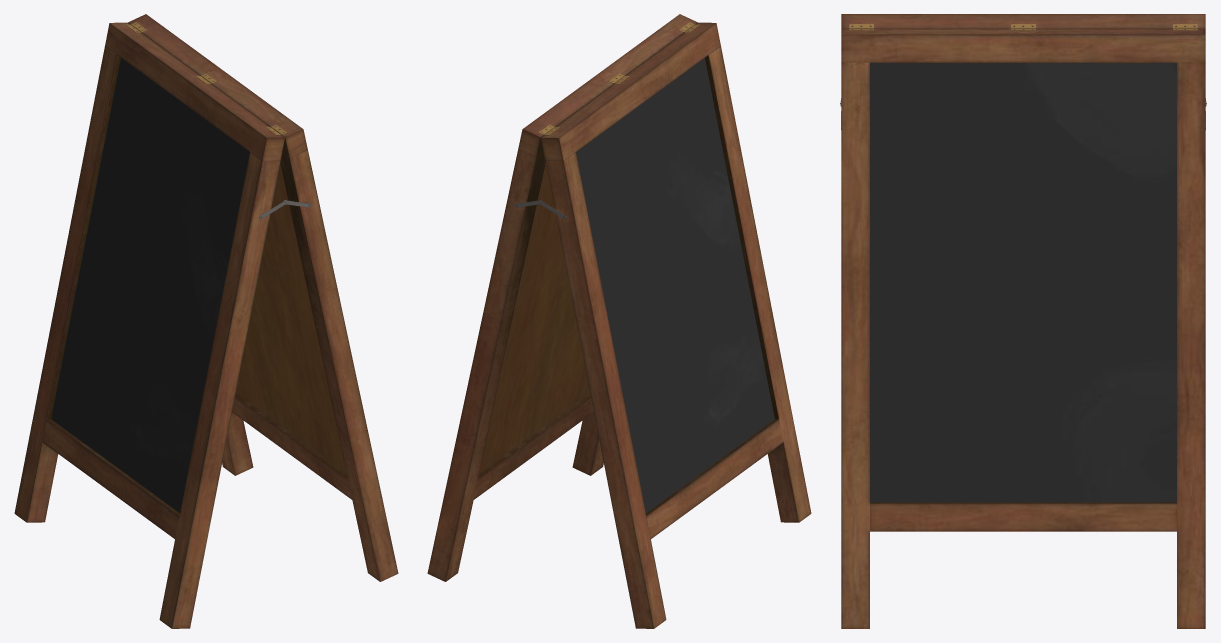
The model's file is sandwichBoard-v1.glb.
3 views of the same model, side by side, from view 1: azimuth 30°, elevation 25°; view 2: azimuth 150°, elevation 25°; view 3: azimuth 270°, elevation 25° (orthographic). The views are drawn at different scales.
Parts seen in each view (by area): view 1: standing_chalkboard_01; view 2: standing_chalkboard_01; view 3: standing_chalkboard_01.
Part boxes in pixels (x1,y1,x2,y2): standing_chalkboard_01: (14,14,398,628); standing_chalkboard_01: (427,14,811,628); standing_chalkboard_01: (840,14,1206,628).
Size of the model in its own units: 0.5028 by 1 by 0.6093.
1 material, 1 textured.
